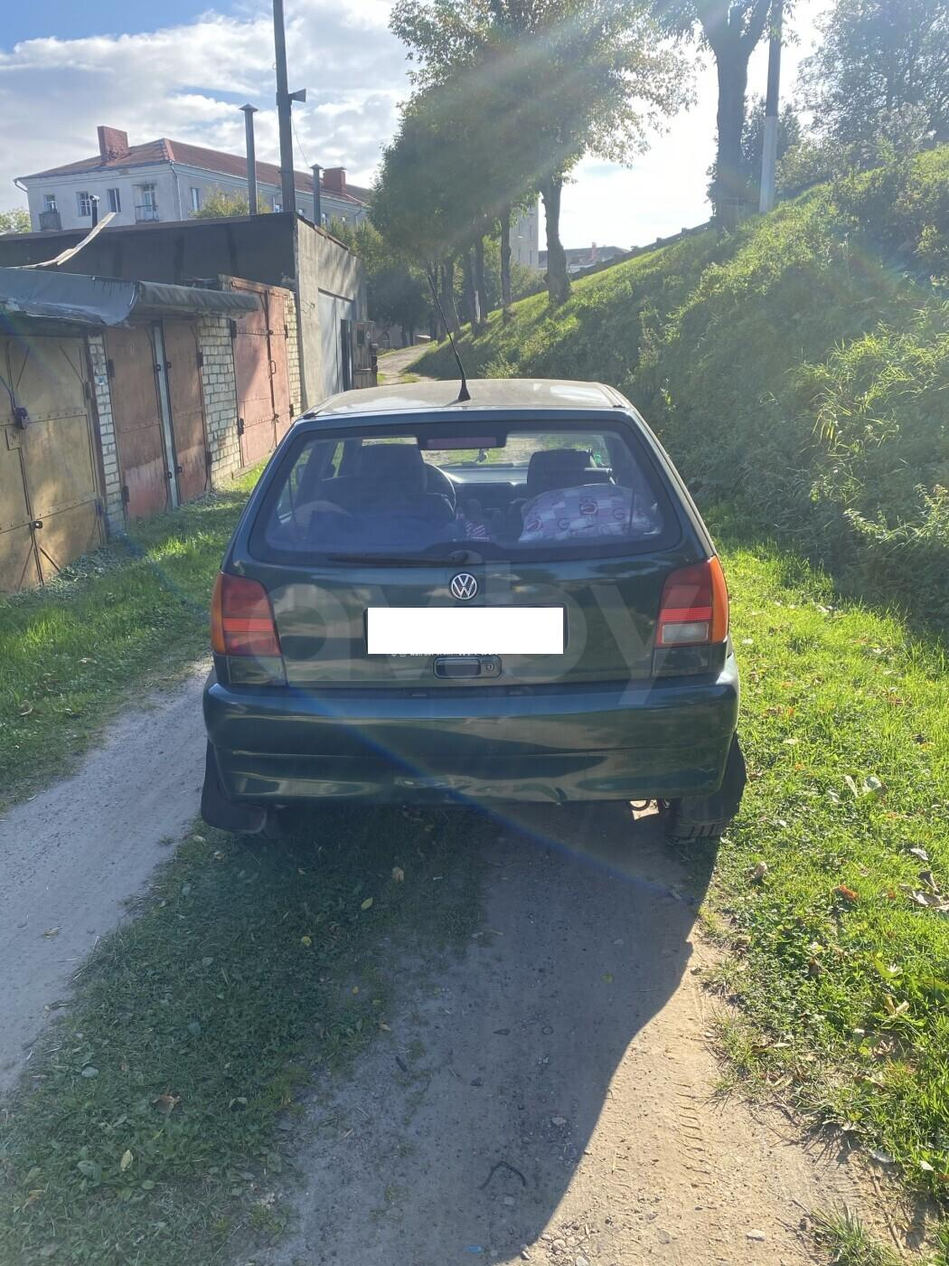Polo_1994-2002: (155, 368, 777, 875)
